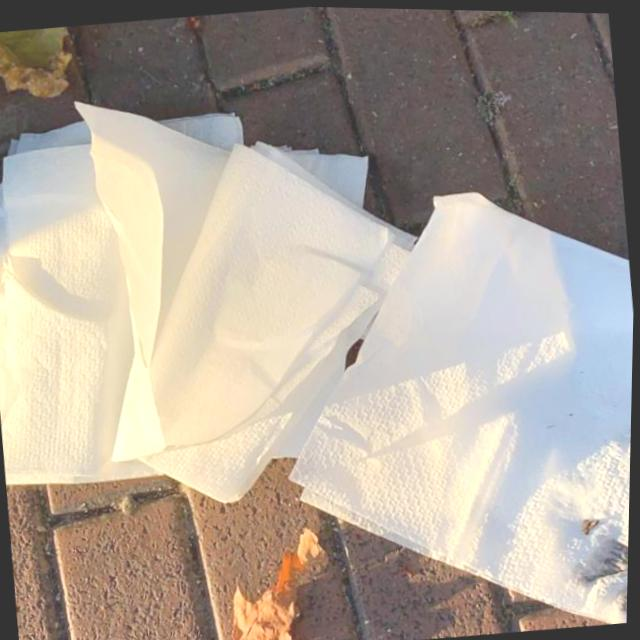Paper: (0, 70, 426, 526), (267, 162, 637, 640)
